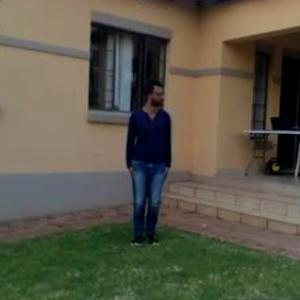follow: (123, 73, 179, 258)
